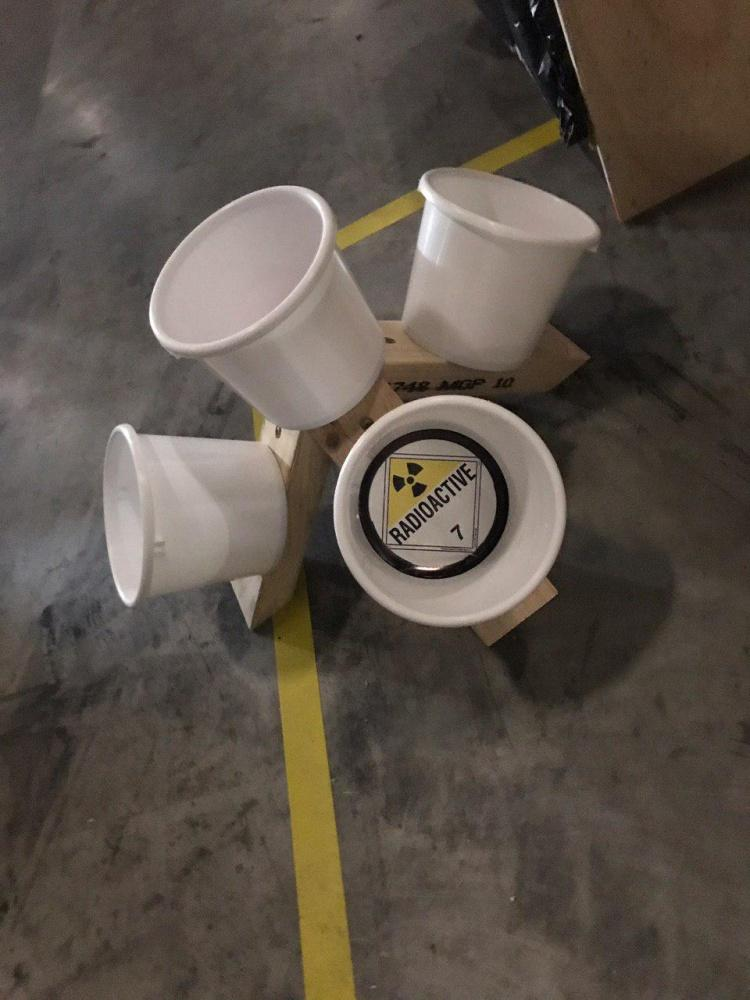radioactive: (378, 452, 483, 558)
